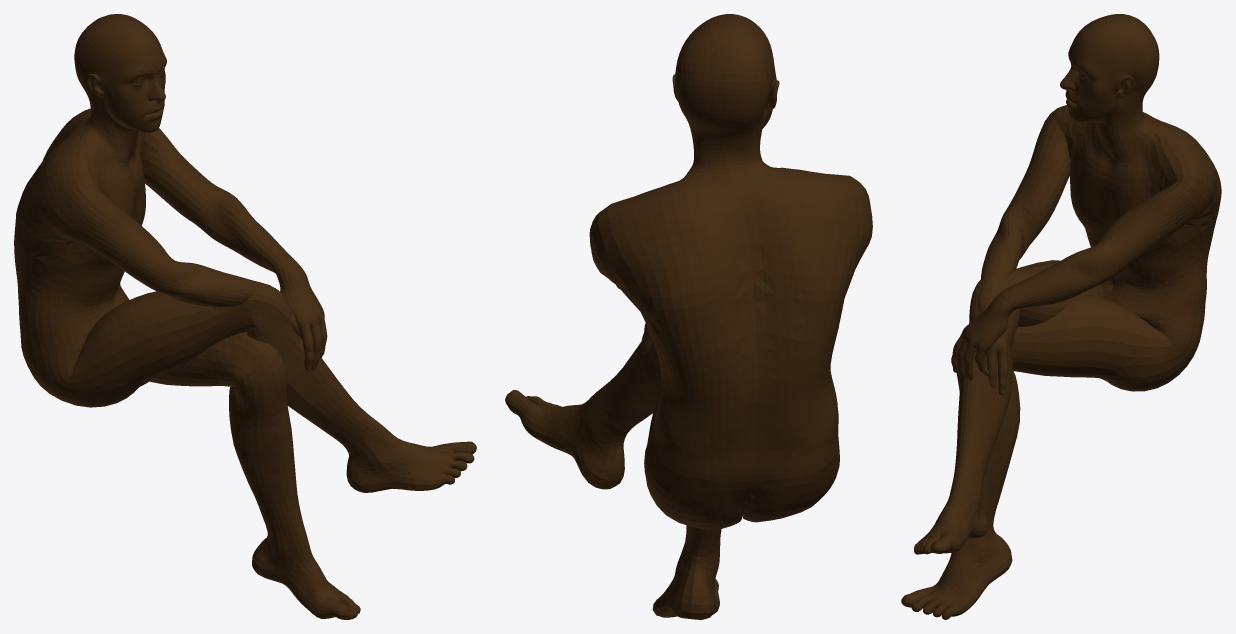
Rendered from pose_original_6.obj.
The picture shows the model from 3 angles, left to right: view 1: azimuth 30°, elevation 25°; view 2: azimuth 150°, elevation 25°; view 3: azimuth 270°, elevation 25°; orthographic projection. The views are drawn at different scales.
Size of the model in its own units: 1.54 by 2.3 by 1.25.
